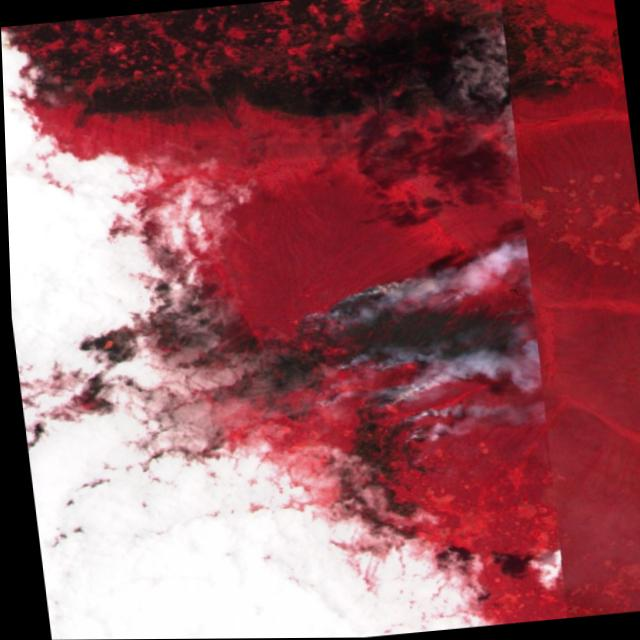fire: (288, 265, 484, 466)
